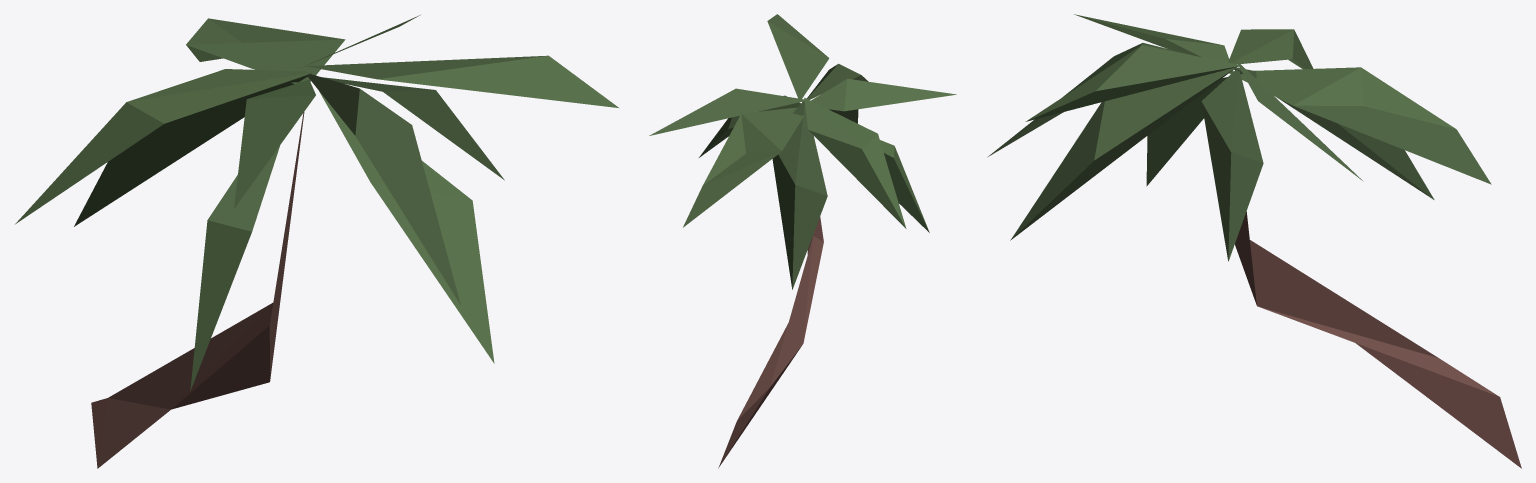
The model's file is PalmTree_2.lod3.glb.
The picture shows the model from 3 angles, left to right: view 1: azimuth 30°, elevation 25°; view 2: azimuth 150°, elevation 25°; view 3: azimuth 270°, elevation 25°; orthographic projection. The views are drawn at different scales.
Parts seen in each view (by area): view 1: PalmTree_2; view 2: PalmTree_2; view 3: PalmTree_2.
Part boxes in pixels (x1,y1,x2,y2): PalmTree_2: (15,15,619,468); PalmTree_2: (649,14,956,468); PalmTree_2: (987,14,1521,468).
Size of the model in its own units: 2.26 by 2.8 by 3.03.
